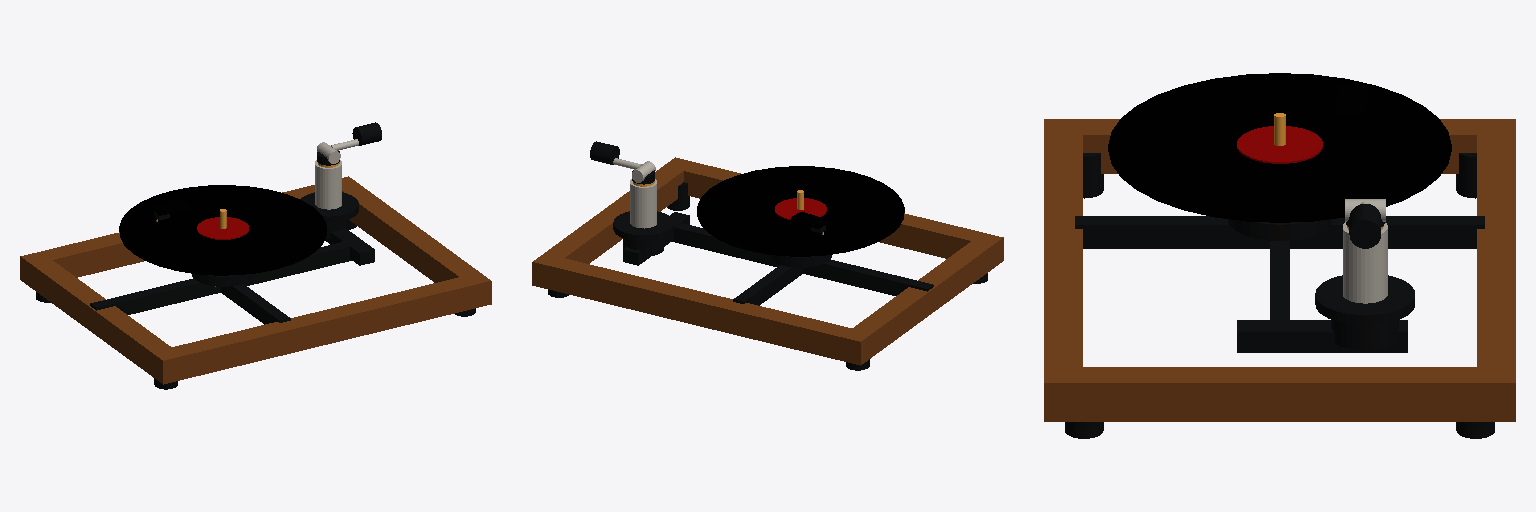
URDF robot description (open_support_record_turntable):
<robot name="open_support_record_turntable">
  <link name="plinth">
    <visual name="front_rail">
      <origin xyz="0 -0.19 0.039" rpy="0 0 0" />
      <geometry>
        <box size="0.55 0.034 0.038" />
        </geometry>
      <material name="satin_walnut">
        <color rgba="0.48 0.28 0.13 1" />
        </material>
      </visual>
    <visual name="rear_rail">
      <origin xyz="0 0.19 0.039" rpy="0 0 0" />
      <geometry>
        <box size="0.55 0.034 0.038" />
        </geometry>
      <material name="satin_walnut">
        <color rgba="0.48 0.28 0.13 1" />
        </material>
      </visual>
    <visual name="side_rail_0">
      <origin xyz="-0.258 0 0.039" rpy="0 0 0" />
      <geometry>
        <box size="0.034 0.38 0.038" />
        </geometry>
      <material name="satin_walnut">
        <color rgba="0.48 0.28 0.13 1" />
        </material>
      </visual>
    <visual name="side_rail_1">
      <origin xyz="0.258 0 0.039" rpy="0 0 0" />
      <geometry>
        <box size="0.034 0.38 0.038" />
        </geometry>
      <material name="satin_walnut">
        <color rgba="0.48 0.28 0.13 1" />
        </material>
      </visual>
    <visual name="cross_member_x">
      <origin xyz="-0.055 0 0.05" rpy="0 0 0" />
      <geometry>
        <box size="0.435 0.018 0.024" />
        </geometry>
      <material name="dark_anodized_metal">
        <color rgba="0.08 0.085 0.09 1" />
        </material>
      </visual>
    <visual name="cross_member_y">
      <origin xyz="-0.055 0 0.05" rpy="0 0 0" />
      <geometry>
        <box size="0.018 0.36 0.024" />
        </geometry>
      <material name="dark_anodized_metal">
        <color rgba="0.08 0.085 0.09 1" />
        </material>
      </visual>
    <visual name="foot_0_0">
      <origin xyz="-0.25 -0.172 0.02" rpy="0 0 0" />
      <geometry>
        <cylinder radius="0.017" length="0.04" />
        </geometry>
      <material name="dark_anodized_metal">
        <color rgba="0.08 0.085 0.09 1" />
        </material>
      </visual>
    <visual name="foot_0_1">
      <origin xyz="-0.25 0.172 0.02" rpy="0 0 0" />
      <geometry>
        <cylinder radius="0.017" length="0.04" />
        </geometry>
      <material name="dark_anodized_metal">
        <color rgba="0.08 0.085 0.09 1" />
        </material>
      </visual>
    <visual name="foot_1_0">
      <origin xyz="0.25 -0.172 0.02" rpy="0 0 0" />
      <geometry>
        <cylinder radius="0.017" length="0.04" />
        </geometry>
      <material name="dark_anodized_metal">
        <color rgba="0.08 0.085 0.09 1" />
        </material>
      </visual>
    <visual name="foot_1_1">
      <origin xyz="0.25 0.172 0.02" rpy="0 0 0" />
      <geometry>
        <cylinder radius="0.017" length="0.04" />
        </geometry>
      <material name="dark_anodized_metal">
        <color rgba="0.08 0.085 0.09 1" />
        </material>
      </visual>
    <visual name="bearing_plate">
      <origin xyz="-0.055 0 0.071" rpy="0 0 0" />
      <geometry>
        <cylinder radius="0.046" length="0.016" />
        </geometry>
      <material name="dark_anodized_metal">
        <color rgba="0.08 0.085 0.09 1" />
        </material>
      </visual>
    <visual name="bearing_column">
      <origin xyz="-0.055 0 0.073" rpy="0 0 0" />
      <geometry>
        <cylinder radius="0.024" length="0.042" />
        </geometry>
      <material name="brushed_aluminum">
        <color rgba="0.72 0.7 0.66 1" />
        </material>
      </visual>
    <visual name="bearing_cap">
      <origin xyz="-0.055 0 0.097" rpy="0 0 0" />
      <geometry>
        <cylinder radius="0.031" length="0.006" />
        </geometry>
      <material name="warm_brass">
        <color rgba="0.9 0.62 0.25 1" />
        </material>
      </visual>
    <visual name="armboard_bridge">
      <origin xyz="0.165 0.0375 0.052" rpy="0 0 0" />
      <geometry>
        <box size="0.026 0.15 0.02" />
        </geometry>
      <material name="dark_anodized_metal">
        <color rgba="0.08 0.085 0.09 1" />
        </material>
      </visual>
    <visual name="armboard_post">
      <origin xyz="0.165 0.075 0.069" rpy="0 0 0" />
      <geometry>
        <cylinder radius="0.03" length="0.034" />
        </geometry>
      <material name="dark_anodized_metal">
        <color rgba="0.08 0.085 0.09 1" />
        </material>
      </visual>
    <visual name="armboard_base">
      <origin xyz="0.165 0.075 0.088" rpy="0 0 0" />
      <geometry>
        <cylinder radius="0.044" length="0.01" />
        </geometry>
      <material name="dark_anodized_metal">
        <color rgba="0.08 0.085 0.09 1" />
        </material>
      </visual>
    <visual name="tonearm_pillar">
      <origin xyz="0.165 0.075 0.123" rpy="0 0 0" />
      <geometry>
        <cylinder radius="0.02" length="0.07" />
        </geometry>
      <material name="brushed_aluminum">
        <color rgba="0.72 0.7 0.66 1" />
        </material>
      </visual>
    <visual name="pivot_cup">
      <origin xyz="0.165 0.075 0.16" rpy="0 0 0" />
      <geometry>
        <cylinder radius="0.016" length="0.004" />
        </geometry>
      <material name="warm_brass">
        <color rgba="0.9 0.62 0.25 1" />
        </material>
      </visual>
    <visual name="pivot_ring">
      <origin xyz="0.165 0.075 0.1575" rpy="0 0 0" />
      <geometry>
        <mesh filename="assets/meshes/pivot_ring.obj" />
        </geometry>
      <material name="dark_anodized_metal">
        <color rgba="0.08 0.085 0.09 1" />
        </material>
      </visual>
    </link>
  <link name="platter">
    <visual name="platter_body">
      <origin xyz="0 0 0.002" rpy="0 0 0" />
      <geometry>
        <mesh filename="assets/meshes/stepped_platter.obj" />
        </geometry>
      <material name="brushed_aluminum">
        <color rgba="0.72 0.7 0.66 1" />
        </material>
      </visual>
    <visual name="record_disc">
      <origin xyz="0 0 0.034" rpy="0 0 0" />
      <geometry>
        <cylinder radius="0.151" length="0.0045" />
        </geometry>
      <material name="black_rubber">
        <color rgba="0.005 0.005 0.006 1" />
        </material>
      </visual>
    <visual name="center_label">
      <origin xyz="0 0 0.03705" rpy="0 0 0" />
      <geometry>
        <cylinder radius="0.038" length="0.0016" />
        </geometry>
      <material name="record_label_red">
        <color rgba="0.58 0.04 0.035 1" />
        </material>
      </visual>
    <visual name="spindle">
      <origin xyz="0 0 0.042" rpy="0 0 0" />
      <geometry>
        <cylinder radius="0.005" length="0.048" />
        </geometry>
      <material name="warm_brass">
        <color rgba="0.9 0.62 0.25 1" />
        </material>
      </visual>
    </link>
  <link name="tonearm">
    <visual name="pivot_hub">
      <geometry>
        <cylinder radius="0.017" length="0.012" />
        </geometry>
      <material name="dark_anodized_metal">
        <color rgba="0.08 0.085 0.09 1" />
        </material>
      </visual>
    <visual name="gimbal_barrel">
      <origin xyz="0 0 0.006" rpy="1.5708 0 0" />
      <geometry>
        <cylinder radius="0.01" length="0.036" />
        </geometry>
      <material name="brushed_aluminum">
        <color rgba="0.72 0.7 0.66 1" />
        </material>
      </visual>
    <visual name="arm_tube">
      <geometry>
        <mesh filename="assets/meshes/tonearm_tube.obj" />
        </geometry>
      <material name="brushed_aluminum">
        <color rgba="0.72 0.7 0.66 1" />
        </material>
      </visual>
    <visual name="headshell">
      <origin xyz="-0.271 -0.012 -0.013" rpy="0 0 -0.08" />
      <geometry>
        <box size="0.049 0.026 0.006" />
        </geometry>
      <material name="matte_black">
        <color rgba="0.01 0.01 0.012 1" />
        </material>
      </visual>
    <visual name="cartridge">
      <origin xyz="-0.286 -0.012 -0.0205" rpy="0 0 0" />
      <geometry>
        <box size="0.018 0.014 0.01" />
        </geometry>
      <material name="dark_anodized_metal">
        <color rgba="0.08 0.085 0.09 1" />
        </material>
      </visual>
    <visual name="stylus">
      <origin xyz="-0.294 -0.012 -0.028" rpy="0.18 0 0" />
      <geometry>
        <cylinder radius="0.0012" length="0.006" />
        </geometry>
      <material name="warm_brass">
        <color rgba="0.9 0.62 0.25 1" />
        </material>
      </visual>
    <visual name="counterweight_shaft">
      <origin xyz="0.0275 0 0.012" rpy="0 1.5708 0" />
      <geometry>
        <cylinder radius="0.005" length="0.045" />
        </geometry>
      <material name="brushed_aluminum">
        <color rgba="0.72 0.7 0.66 1" />
        </material>
      </visual>
    <visual name="counterweight">
      <origin xyz="0.065 0 0.021" rpy="0 1.5708 0" />
      <geometry>
        <cylinder radius="0.014" length="0.034" />
        </geometry>
      <material name="dark_anodized_metal">
        <color rgba="0.08 0.085 0.09 1" />
        </material>
      </visual>
    </link>
  <joint name="platter_spin" type="continuous">
    <origin xyz="-0.055 0 0.098" rpy="0 0 0" />
    <parent link="plinth" />
    <child link="platter" />
    <axis xyz="0 0 1" />
    <limit effort="2" velocity="20" />
    </joint>
  <joint name="tonearm_swing" type="revolute">
    <origin xyz="0.165 0.075 0.168" rpy="0 0 0" />
    <parent link="plinth" />
    <child link="tonearm" />
    <axis xyz="0 0 1" />
    <limit effort="0.25" velocity="1.2" lower="-0.55" upper="0.55" />
    </joint>
  </robot>

--- Facts derived from the render (not from the file) ---
3 views of the same robot in one strip: view 1: azimuth 30°, elevation 25°; view 2: azimuth 150°, elevation 25°; view 3: azimuth 270°, elevation 25° (orthographic).
Model open_support_record_turntable with 3 links and 2 joints (1 revolute, 1 continuous), rooted at plinth, posed every joint at zero.
Visible links, largest first — view 1: plinth, platter, tonearm; view 2: plinth, platter, tonearm; view 3: plinth, platter, tonearm.
Link boxes in pixels (<box>): plinth: <box>20,160,491,389</box>; platter: <box>119,185,326,275</box>; tonearm: <box>152,122,381,221</box>; plinth: <box>532,157,1003,370</box>; platter: <box>697,166,904,256</box>; tonearm: <box>590,141,828,234</box>; plinth: <box>1044,119,1515,438</box>; platter: <box>1108,73,1451,222</box>; tonearm: <box>1335,84,1385,248</box>.
Size in the robot's own frame: 0.55 by 0.414 by 0.203 metres.
Meshes: 3 distinct files referenced, 0 mesh visuals loaded (none loaded); not drawn: 3 (file found but could not be loaded).
